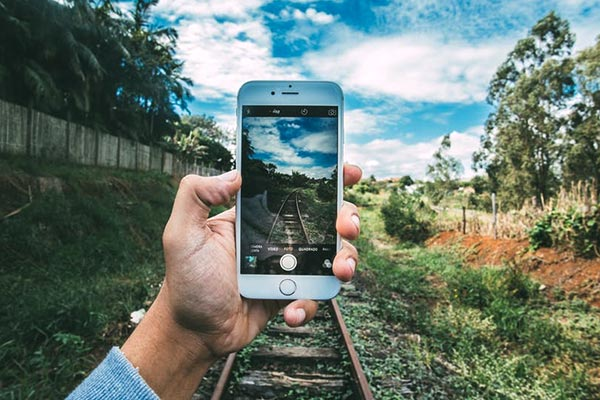mobile: (232, 67, 346, 322)
